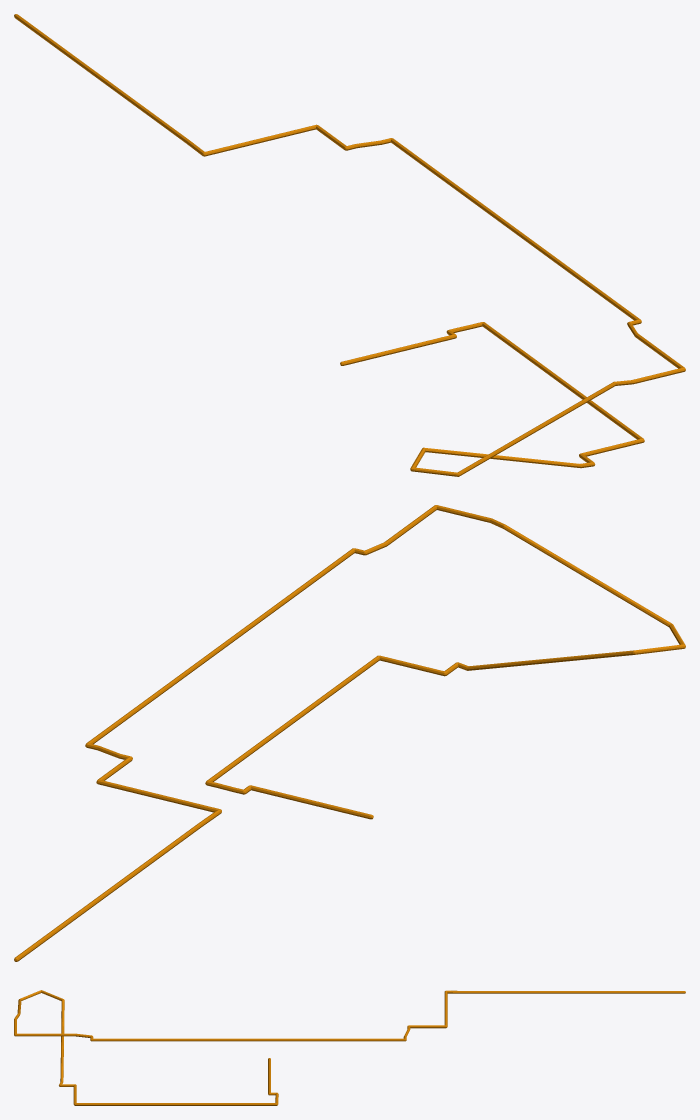
3 views of the same model, one above another, from view 1: azimuth 30°, elevation 25°; view 2: azimuth 150°, elevation 25°; view 3: azimuth 270°, elevation 25° (orthographic). The views are drawn at different scales.
Size of the model in its own units: 1325 by 520 by 4501.
